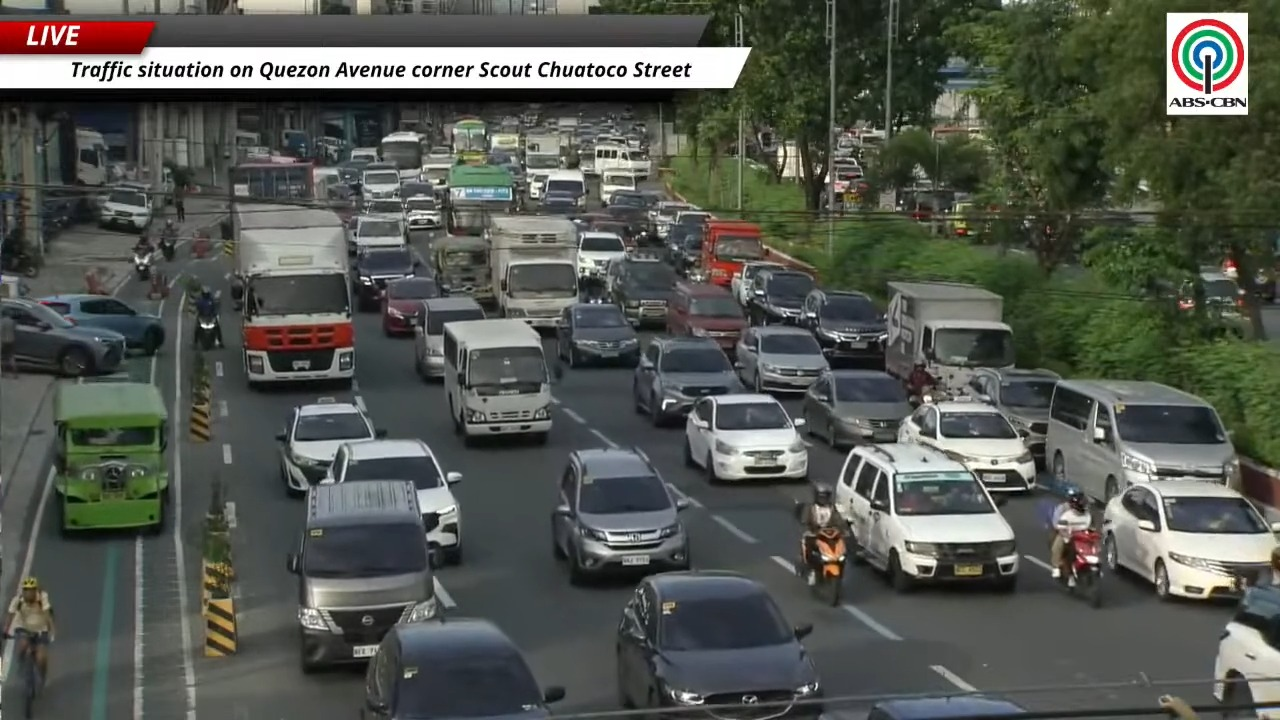bus: (445, 165, 515, 234), (231, 162, 313, 201), (379, 131, 427, 180), (451, 117, 489, 163)
car: (616, 570, 822, 718), (835, 444, 1019, 591), (1102, 480, 1279, 599), (360, 618, 564, 719), (551, 448, 689, 584), (320, 436, 462, 564), (897, 399, 1036, 491), (684, 393, 808, 483), (276, 397, 384, 496), (0, 298, 125, 377), (963, 368, 1060, 469), (633, 337, 743, 426), (801, 369, 911, 447), (1213, 585, 1279, 707), (39, 294, 164, 355), (800, 288, 887, 360), (735, 326, 829, 392), (667, 282, 747, 356), (555, 303, 639, 366), (606, 254, 677, 326), (350, 247, 420, 311), (865, 695, 1027, 719), (747, 269, 815, 325), (381, 276, 441, 335), (730, 262, 784, 307), (99, 188, 151, 232), (349, 213, 406, 253), (577, 231, 626, 276), (670, 226, 707, 281), (1199, 271, 1244, 314), (650, 201, 695, 237), (361, 163, 400, 203), (404, 194, 441, 230), (607, 189, 654, 212), (539, 191, 579, 214), (400, 180, 436, 204), (361, 198, 404, 216), (673, 208, 713, 226)
motorcycle: (1058, 528, 1103, 608), (804, 527, 846, 606), (0, 249, 38, 277), (194, 315, 218, 351), (132, 251, 153, 280), (159, 235, 176, 261)
truck: (232, 203, 354, 387), (885, 281, 1015, 392), (486, 215, 578, 327), (701, 219, 766, 286), (524, 134, 565, 199), (75, 127, 108, 187), (525, 133, 563, 170)
